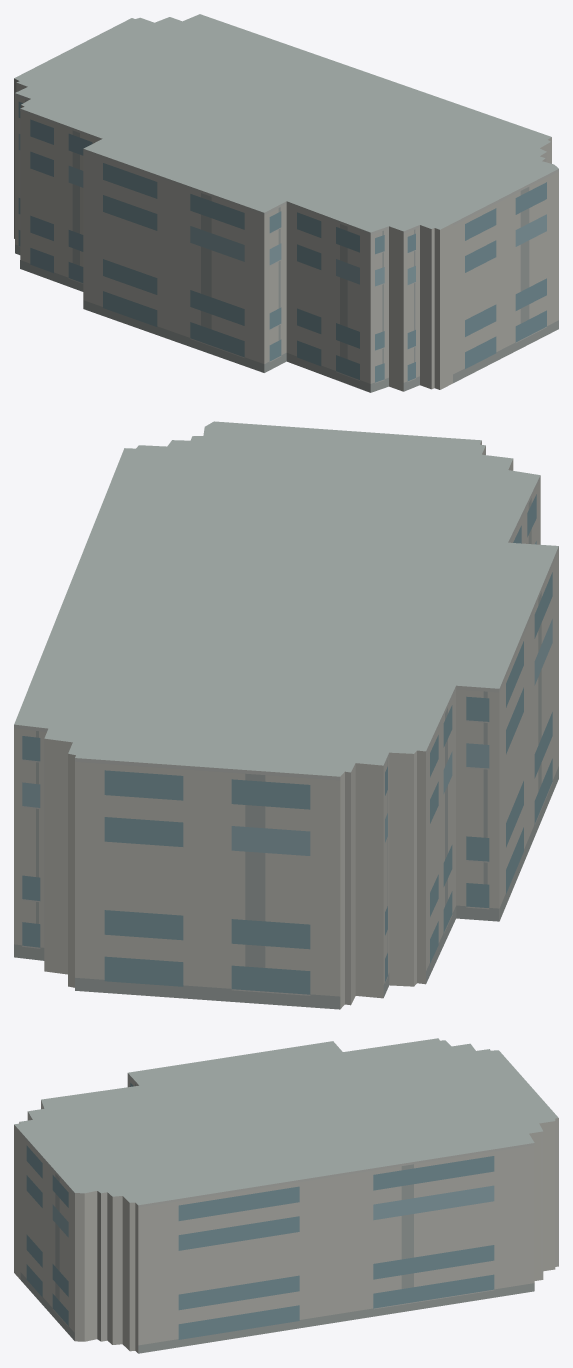
Rendered from survey-upis-32918118.glb.
3 views of the same model, one above another, from view 1: azimuth 30°, elevation 25°; view 2: azimuth 150°, elevation 25°; view 3: azimuth 270°, elevation 25° (orthographic). The views are drawn at different scales.
Parts seen in each view (by area): view 1: survey-upis-32918118.tmp; view 2: survey-upis-32918118.tmp; view 3: survey-upis-32918118.tmp.
Part boxes in pixels (bbox=[...]): survey-upis-32918118.tmp: bbox=[14, 14, 558, 392]; survey-upis-32918118.tmp: bbox=[14, 421, 558, 1009]; survey-upis-32918118.tmp: bbox=[14, 1038, 558, 1353].
Size of the model in its own units: 36.83 by 15.25 by 50.75.
